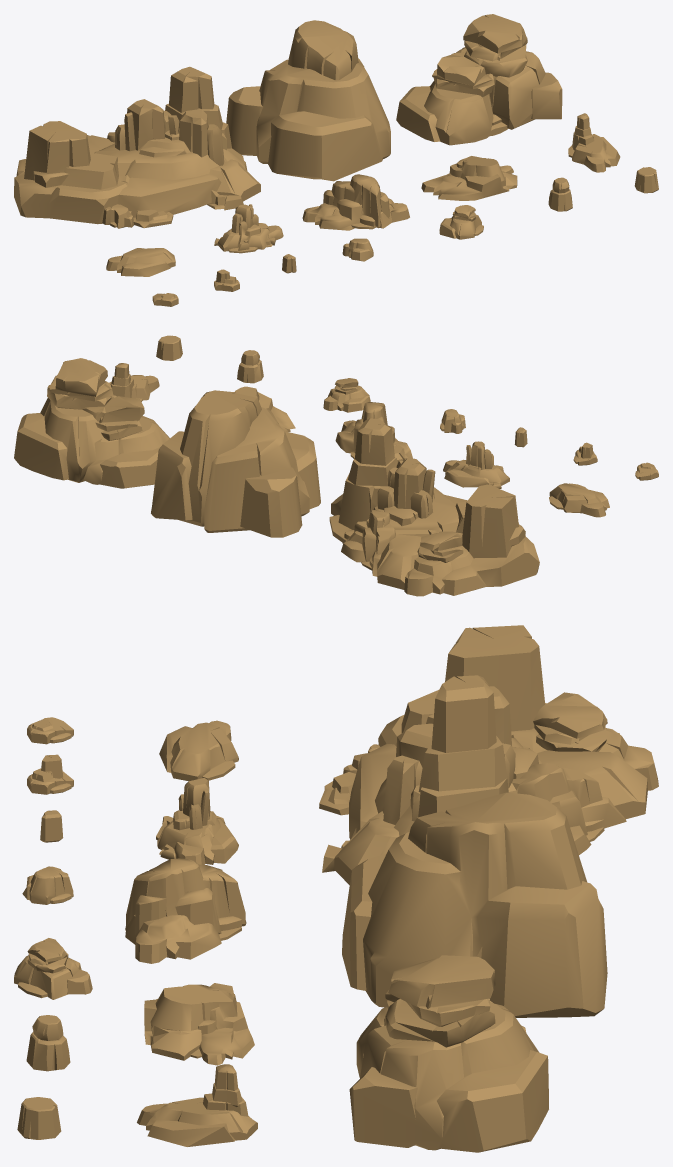
Rendered from Rocks.fbx.
3 renders of one model, top to bottom at view 1: azimuth 30°, elevation 25°; view 2: azimuth 150°, elevation 25°; view 3: azimuth 270°, elevation 25°, orthographic. The views are drawn at different scales.
Parts seen in each view (by area): view 1: Rock_1, Rock_2, Rock_3, Rock_6, Rock_7, Rock_5, Rock_8, Rock_4, Rock_13, Rock_14, Rock_12, Rock_15 (+1 smaller); view 2: Rock_1, Rock_2, Rock_3, Rock_5, Rock_4, Rock_6, Rock_8, Rock_13, Rock_14, Rock_7, Rock_15, Rock_12 (+1 smaller); view 3: Rock_2, Rock_1, Rock_3, Rock_6, Rock_7, Rock_8, Rock_5, Rock_4, Rock_13, Rock_14, Rock_15, Rock_12 (+2 smaller).
Part boxes in pixels (x1,y1,x2,y2): Rock_1: [14, 66, 260, 228]; Rock_2: [226, 20, 390, 181]; Rock_3: [396, 14, 562, 145]; Rock_6: [302, 174, 409, 230]; Rock_7: [421, 156, 517, 200]; Rock_5: [214, 204, 283, 253]; Rock_8: [568, 113, 620, 172]; Rock_4: [106, 248, 175, 276]; Rock_13: [439, 205, 483, 239]; Rock_14: [548, 177, 572, 211]; Rock_12: [342, 238, 373, 261]; Rock_15: [634, 167, 658, 193]; Rock_1: [329, 418, 539, 596]; Rock_2: [151, 390, 320, 537]; Rock_3: [14, 358, 169, 488]; Rock_5: [443, 441, 509, 488]; Rock_4: [549, 483, 609, 517]; Rock_6: [335, 402, 412, 459]; Rock_8: [109, 363, 159, 401]; Rock_13: [323, 378, 370, 412]; Rock_14: [237, 350, 263, 383]; Rock_7: [234, 386, 295, 431]; Rock_15: [156, 335, 182, 360]; Rock_12: [440, 409, 465, 433]; Rock_2: [342, 792, 607, 1017]; Rock_1: [319, 625, 658, 884]; Rock_3: [349, 955, 548, 1152]; Rock_6: [125, 858, 246, 963]; Rock_7: [144, 983, 254, 1065]; Rock_8: [137, 1064, 257, 1146]; Rock_5: [156, 778, 238, 864]; Rock_4: [159, 720, 238, 781]; Rock_13: [14, 938, 92, 999]; Rock_14: [26, 1015, 70, 1071]; Rock_15: [17, 1097, 61, 1139]; Rock_12: [22, 866, 73, 904].
Bounding box in the file's own units: 6273 × 1284 × 4000.
